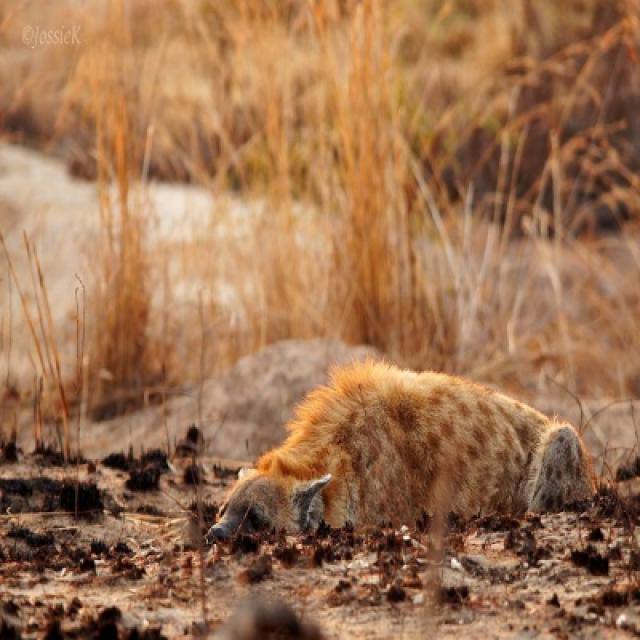hyena: (218, 363, 594, 565)
